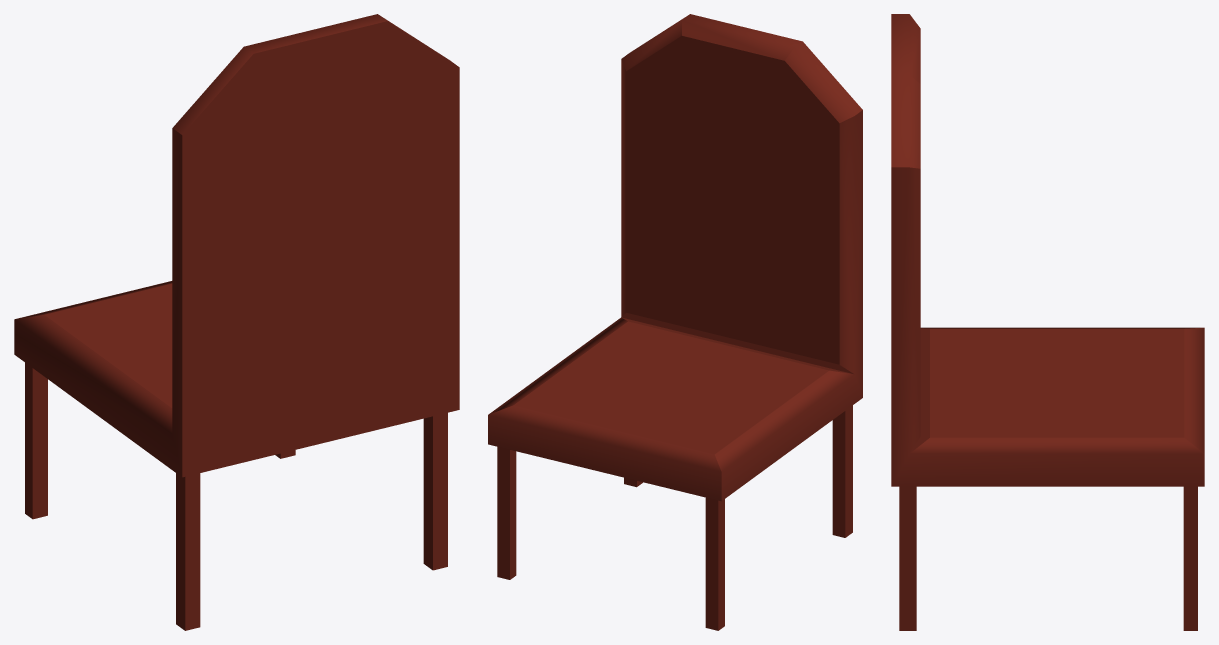
The model's file is chair.fbx.
3 renders of one model, left to right at view 1: azimuth 30°, elevation 25°; view 2: azimuth 150°, elevation 25°; view 3: azimuth 270°, elevation 25°, orthographic. The views are drawn at different scales.
Parts seen in each view (by area): view 1: pCube1; view 2: pCube1; view 3: pCube1.
Boxes of the visible parts, x1,y1,x2,y2 form: pCube1: (14, 14, 459, 630); pCube1: (488, 14, 862, 630); pCube1: (891, 14, 1204, 630).
Bounding box in the file's own units: 0.6949 × 1.35 × 0.7288.
